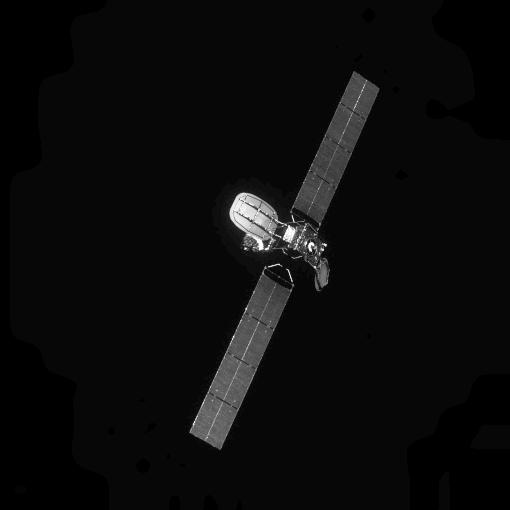antenna: (229, 190, 280, 241), (313, 257, 332, 293)
body: (271, 219, 328, 272)
solar: (186, 272, 293, 451), (291, 68, 382, 227)
thruster: (310, 245, 318, 251)
